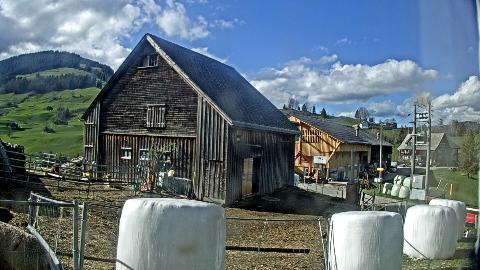car: (388, 166, 398, 172), (418, 161, 426, 167)
sheep: (1, 220, 54, 270), (324, 210, 338, 238), (106, 174, 122, 190), (0, 206, 14, 223), (50, 164, 62, 174)
